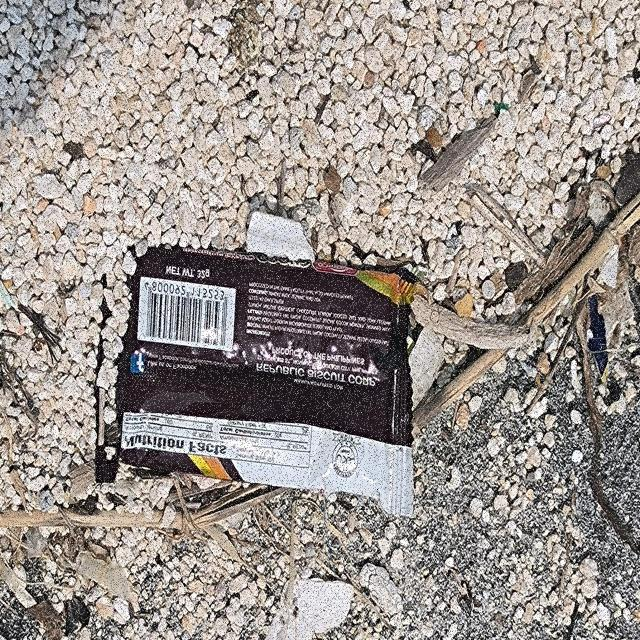plastic_waste: (95, 246, 429, 520)
